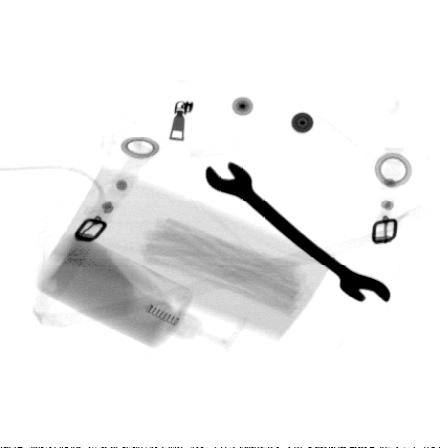Wrench: (204, 159, 391, 305)
